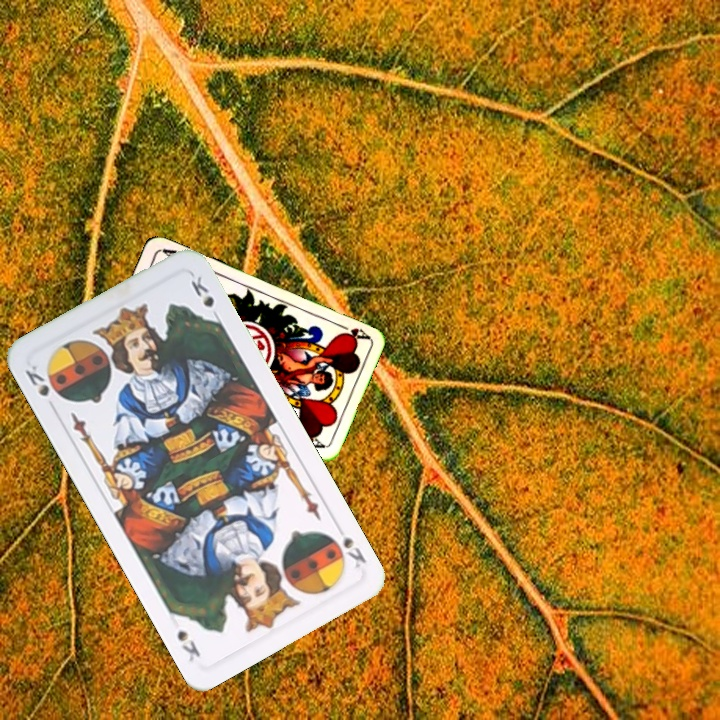HA: (332, 319, 371, 342)
SK: (324, 521, 369, 570), (21, 360, 59, 414)
